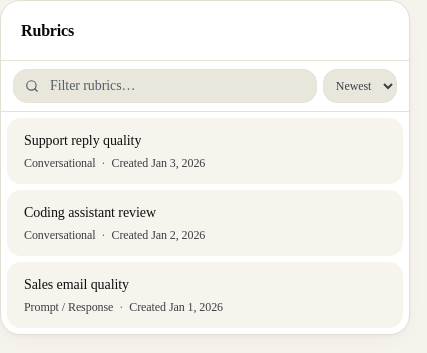
Test: RubricsPanel – name filter › clears the query and restores all rubrics when the clear button is clicked
This screenshot has width=427, height=353.
Step 1. Type "sales" into the field named "filter rubrics by name" → (165, 86), box [13,69,317,103]
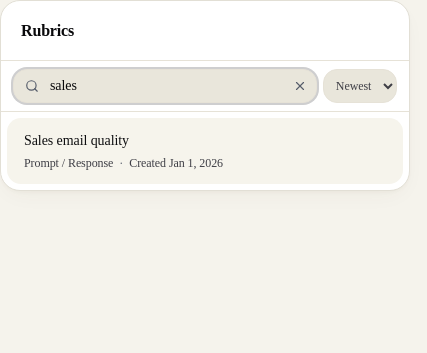
expect the button "Support reply quality" is gone: met
Step 2. Click the button named "clear filter" → (300, 86), box [293,79,307,93]
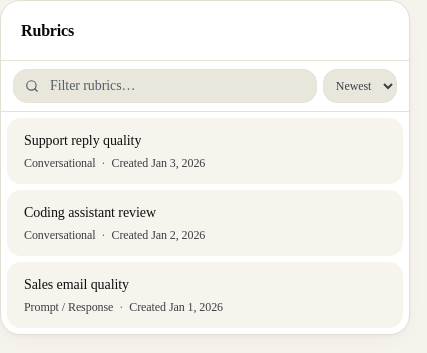
expect the field named "filter rubrics by name" is empty: met, box [13,69,317,103]
expect the text "Support reply quality" is shown: met, box [24,131,141,151]
expect the text "Coding assistant review" is shown: met, box [24,203,156,223]
